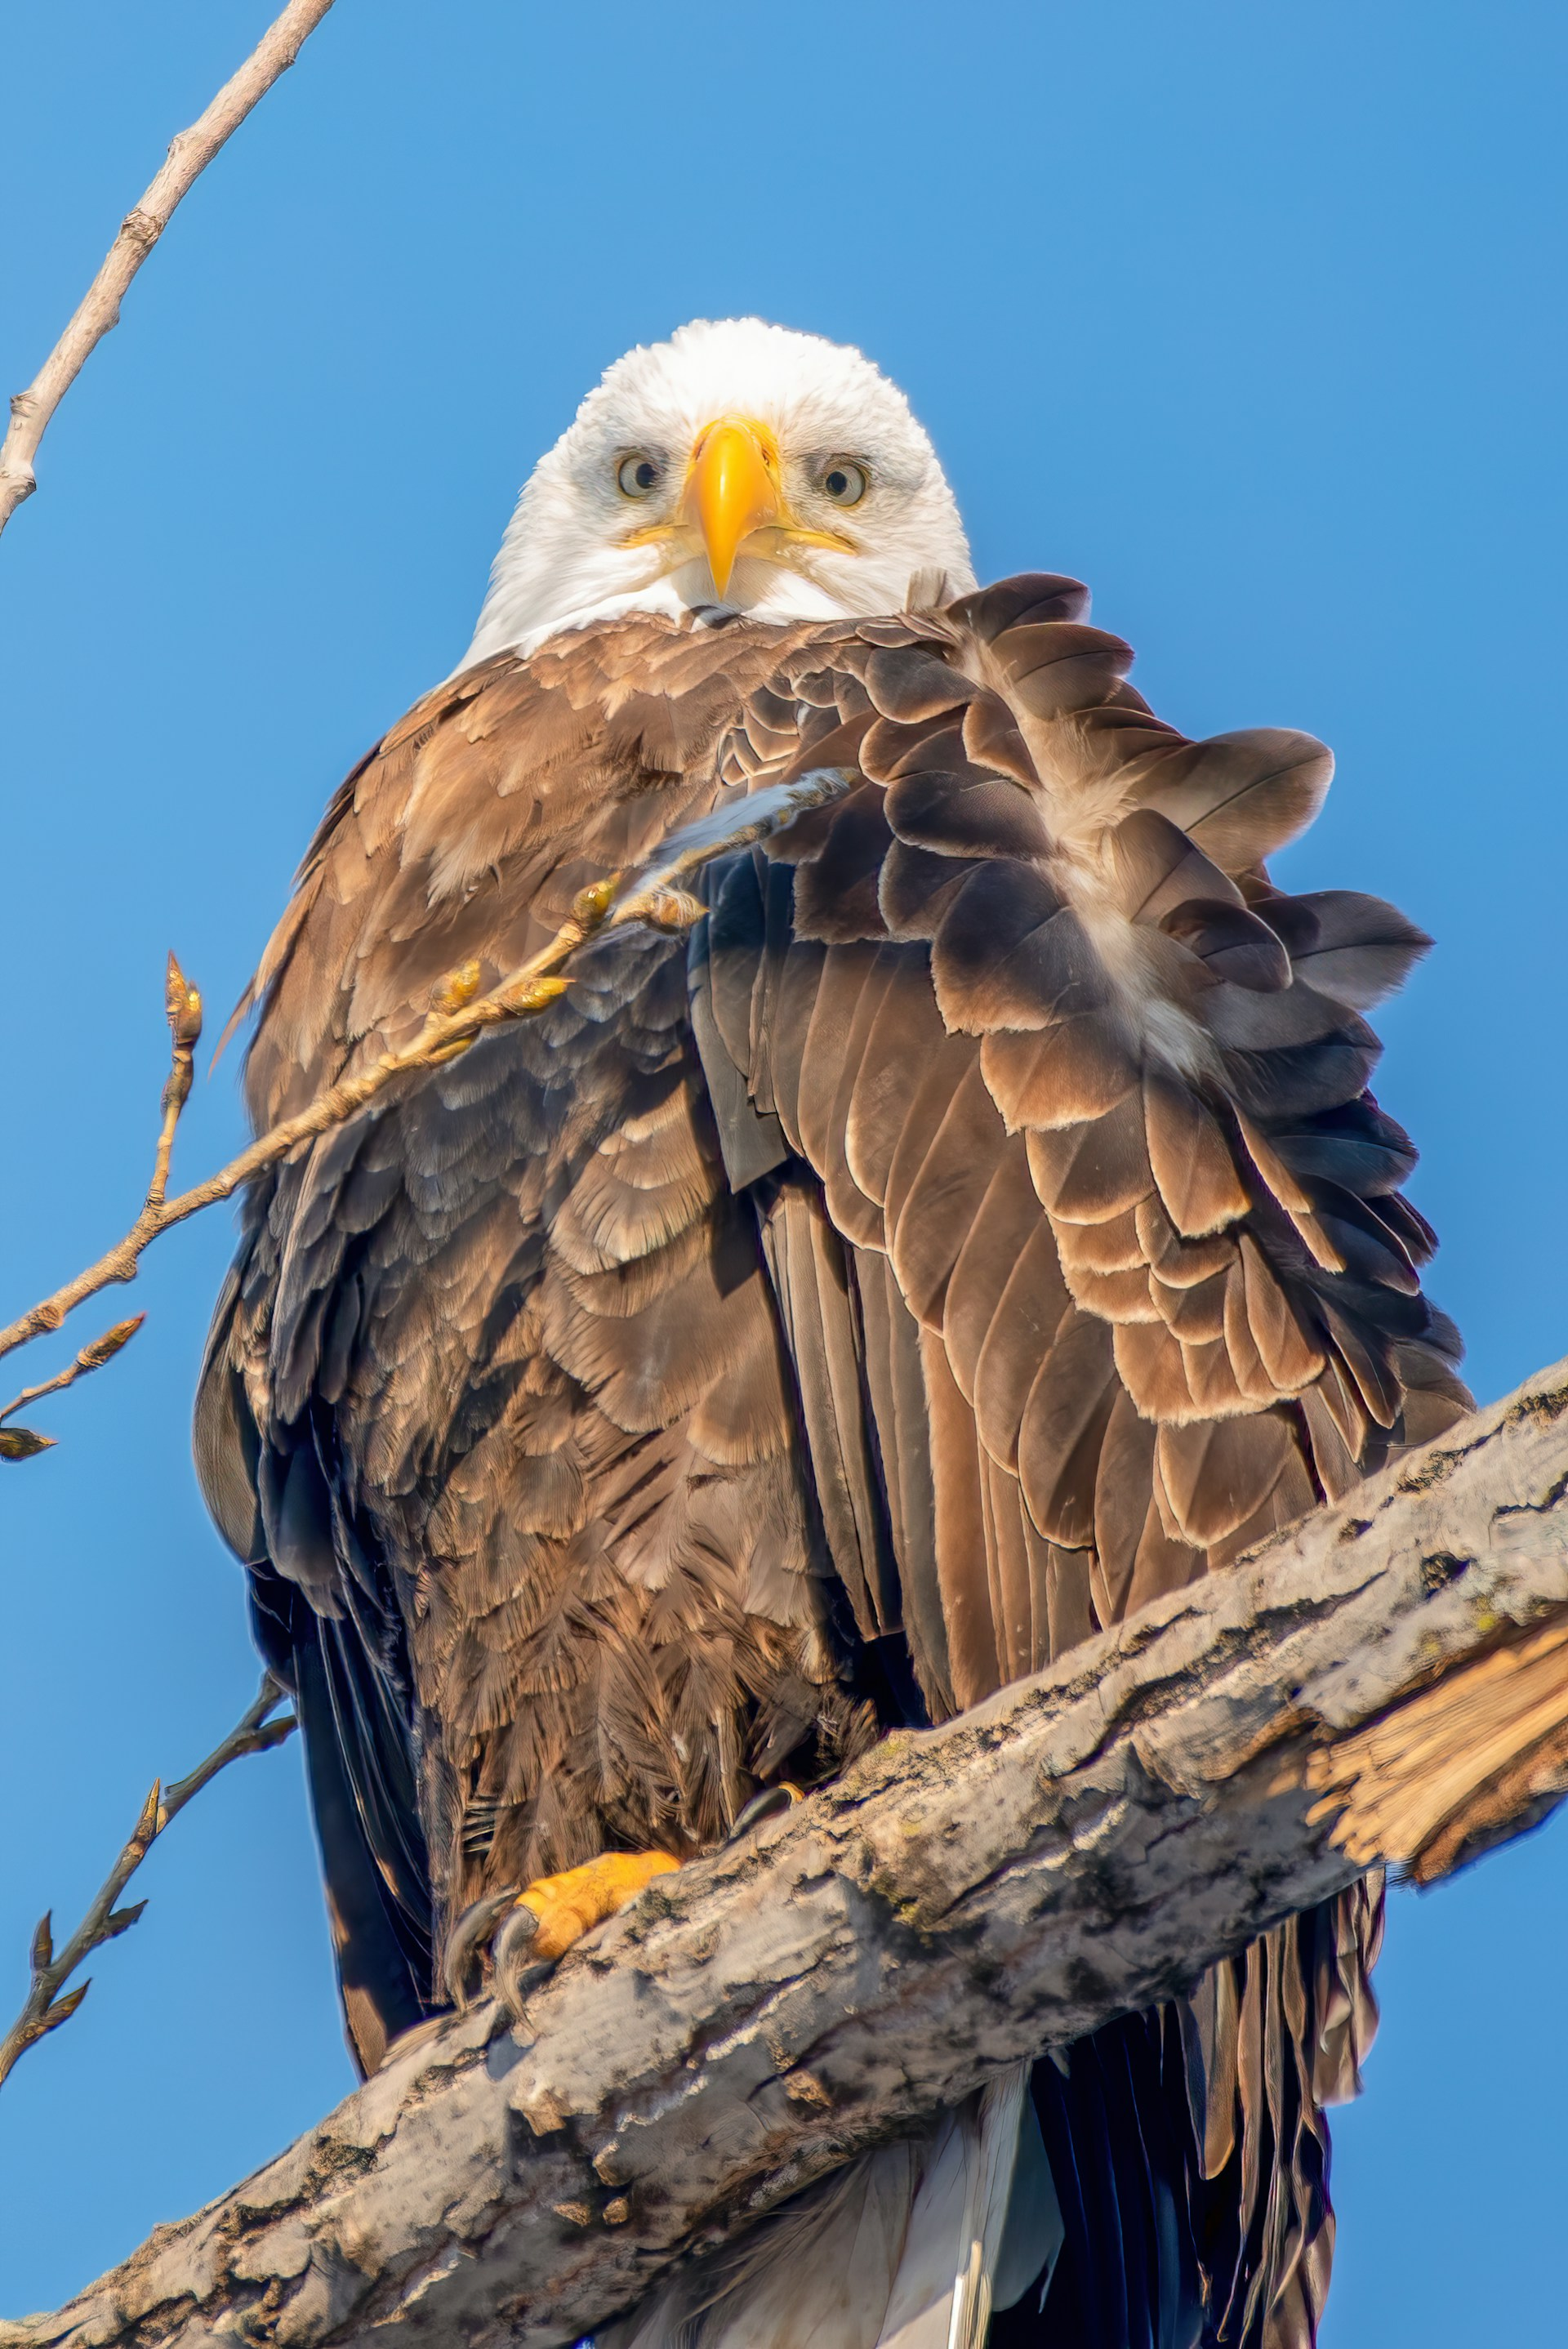eagle: (178, 285, 1489, 2349)
